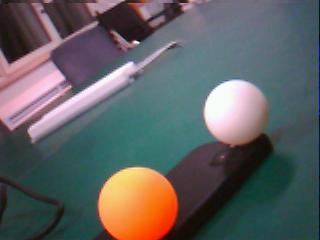oball: (100, 166, 178, 240)
